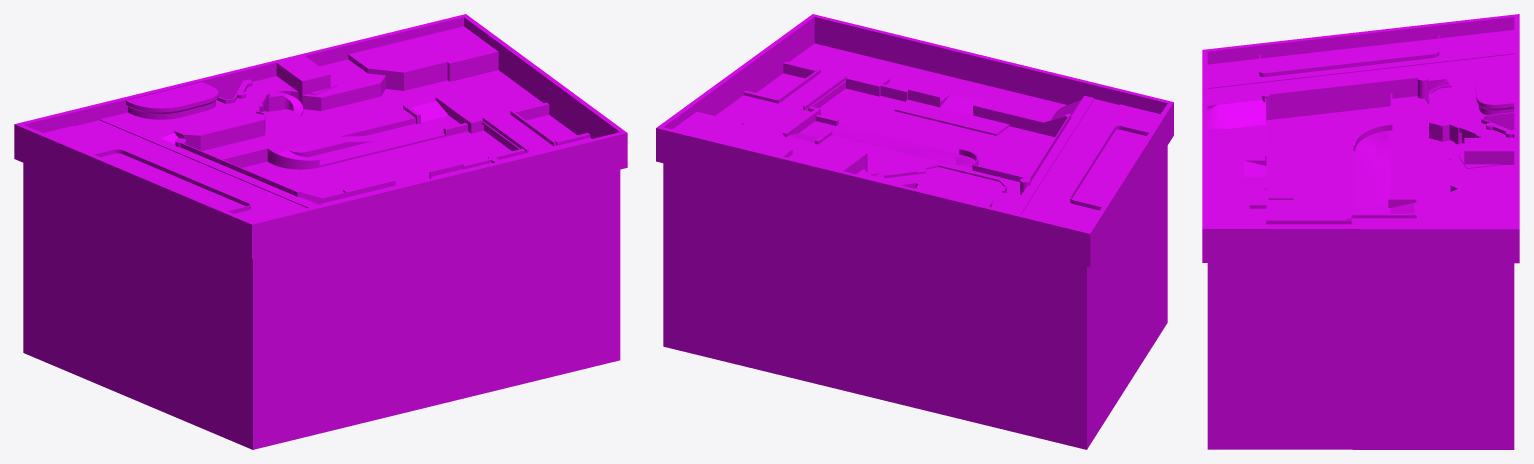
The model's file is Map_Colliders.FBX.
The picture shows the model from 3 angles, left to right: view 1: azimuth 30°, elevation 25°; view 2: azimuth 150°, elevation 25°; view 3: azimuth 270°, elevation 25°; orthographic projection. The views are drawn at different scales.
Visible parts, largest first — view 1: COLLIDER_Water, COLLIDER_OuterWalls, COLLIDER_GroundSouthbank001, COLLIDER_PrincesBridge, COLLIDER_SouthgateR001, COLLIDER_Raised001, COLLIDER_Southgate001, COLLIDER_Dock002, COLLIDER_HamerHall002, MOVING_COLLIDER_TableBridge, COLLIDER_Box069, COLLIDER_GroundNorthBank001 (+5 smaller); view 2: COLLIDER_Water, COLLIDER_OuterWalls, COLLIDER_PrincesBridge, COLLIDER_GroundNorthBank001, COLLIDER_GroundSouthbank001, COLLIDER_SouthgateR001, COLLIDER_Dock002, COLLIDER_Raised001, MOVING_COLLIDER_TableBridge, COLLIDER_Dock001, COLLIDER_Southgate001, COLLIDER_HamerHall002 (+2 smaller); view 3: COLLIDER_Water, COLLIDER_OuterWalls, COLLIDER_PrincesBridge, COLLIDER_GroundSouthbank001, COLLIDER_GroundNorthBank001, COLLIDER_Raised001, COLLIDER_SouthgateR001, COLLIDER_Dock002, COLLIDER_Southgate001, COLLIDER_HamerHall002, COLLIDER_RaisedStair002, COLLIDER_Dock001 (+5 smaller).
Boxes of the visible parts, left/top/right/bottom form: COLLIDER_Water: left=23, top=115, right=620, bottom=449; COLLIDER_OuterWalls: left=14, top=14, right=627, bottom=259; COLLIDER_GroundSouthbank001: left=202, top=70, right=549, bottom=167; COLLIDER_PrincesBridge: left=43, top=117, right=319, bottom=221; COLLIDER_SouthgateR001: left=348, top=26, right=498, bottom=90; COLLIDER_Raised001: left=127, top=76, right=337, bottom=150; COLLIDER_Southgate001: left=276, top=56, right=385, bottom=110; COLLIDER_Dock002: left=267, top=115, right=459, bottom=169; COLLIDER_HamerHall002: left=126, top=82, right=218, bottom=119; MOVING_COLLIDER_TableBridge: left=482, top=110, right=556, bottom=153; COLLIDER_Box069: left=93, top=149, right=250, bottom=213; COLLIDER_GroundNorthBank001: left=321, top=133, right=591, bottom=204; COLLIDER_Water: left=663, top=73, right=1167, bottom=449; COLLIDER_OuterWalls: left=656, top=14, right=1173, bottom=267; COLLIDER_PrincesBridge: left=1011, top=95, right=1160, bottom=230; COLLIDER_GroundNorthBank001: left=783, top=43, right=1066, bottom=136; COLLIDER_GroundSouthbank001: left=715, top=90, right=1019, bottom=194; COLLIDER_SouthgateR001: left=672, top=111, right=792, bottom=157; COLLIDER_Dock002: left=799, top=121, right=978, bottom=169; COLLIDER_Raised001: left=856, top=164, right=1006, bottom=207; MOVING_COLLIDER_TableBridge: left=776, top=69, right=846, bottom=110; COLLIDER_Dock001: left=894, top=99, right=1009, bottom=135; COLLIDER_Southgate001: left=788, top=145, right=867, bottom=174; COLLIDER_HamerHall002: left=916, top=178, right=992, bottom=206; COLLIDER_Water: left=1207, top=106, right=1514, bottom=449; COLLIDER_OuterWalls: left=1202, top=14, right=1519, bottom=263; COLLIDER_PrincesBridge: left=1207, top=30, right=1514, bottom=120; COLLIDER_GroundSouthbank001: left=1347, top=96, right=1514, bottom=226; COLLIDER_GroundNorthBank001: left=1207, top=124, right=1270, bottom=226; COLLIDER_Raised001: left=1429, top=83, right=1514, bottom=168; COLLIDER_SouthgateR001: left=1446, top=181, right=1514, bottom=226; COLLIDER_Dock002: left=1353, top=130, right=1390, bottom=213; COLLIDER_Southgate001: left=1450, top=138, right=1514, bottom=191; COLLIDER_HamerHall002: left=1475, top=67, right=1514, bottom=114; COLLIDER_RaisedStair002: left=1207, top=100, right=1265, bottom=129; COLLIDER_Dock001: left=1266, top=148, right=1293, bottom=199.
Size of the model in its own units: 13733 by 8551 by 6630.
